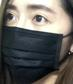with_mask: (2, 1, 73, 84)
